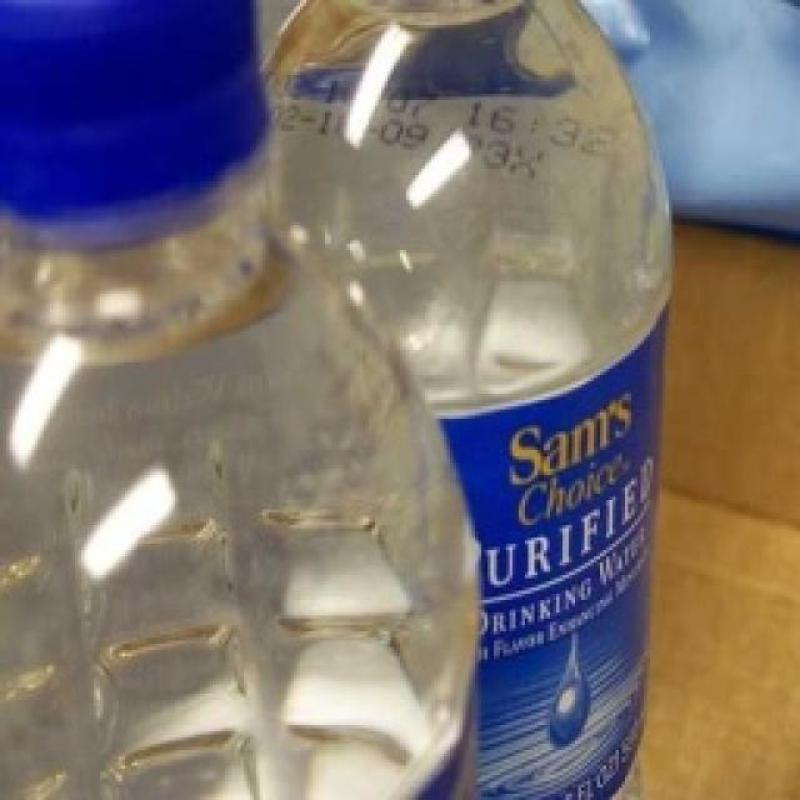botella: (0, 0, 485, 800), (261, 0, 677, 800)
